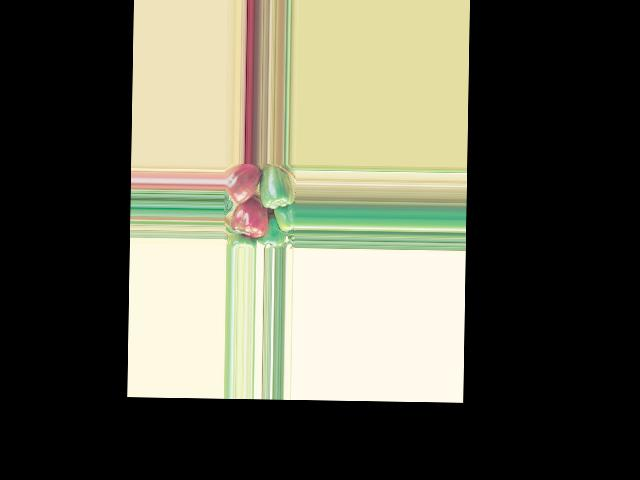bell_pepper: (225, 163, 258, 203)
